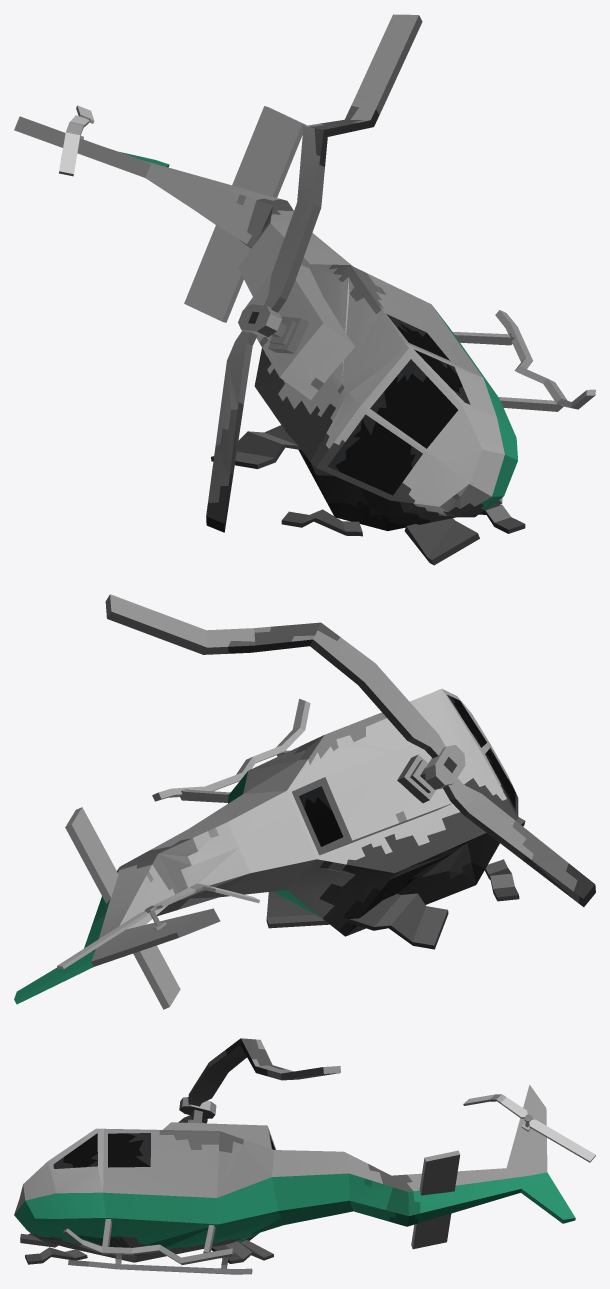
File: SA_Prop_HeliCrashed_01.glb
3 views of the same model, one above another, from view 1: azimuth 30°, elevation 25°; view 2: azimuth 150°, elevation 25°; view 3: azimuth 270°, elevation 25° (orthographic). The views are drawn at different scales.
Parts seen in each view (by area): view 1: SA_Prop_HeliCrashed_01; view 2: SA_Prop_HeliCrashed_01; view 3: SA_Prop_HeliCrashed_01.
Boxes of the visible parts, bbox=[...] form: SA_Prop_HeliCrashed_01: bbox=[14, 14, 595, 565]; SA_Prop_HeliCrashed_01: bbox=[14, 594, 595, 1009]; SA_Prop_HeliCrashed_01: bbox=[14, 1038, 595, 1274].
Bounding box in the file's own units: 2.48 × 2.22 × 4.86.
1 material, 1 textured.
